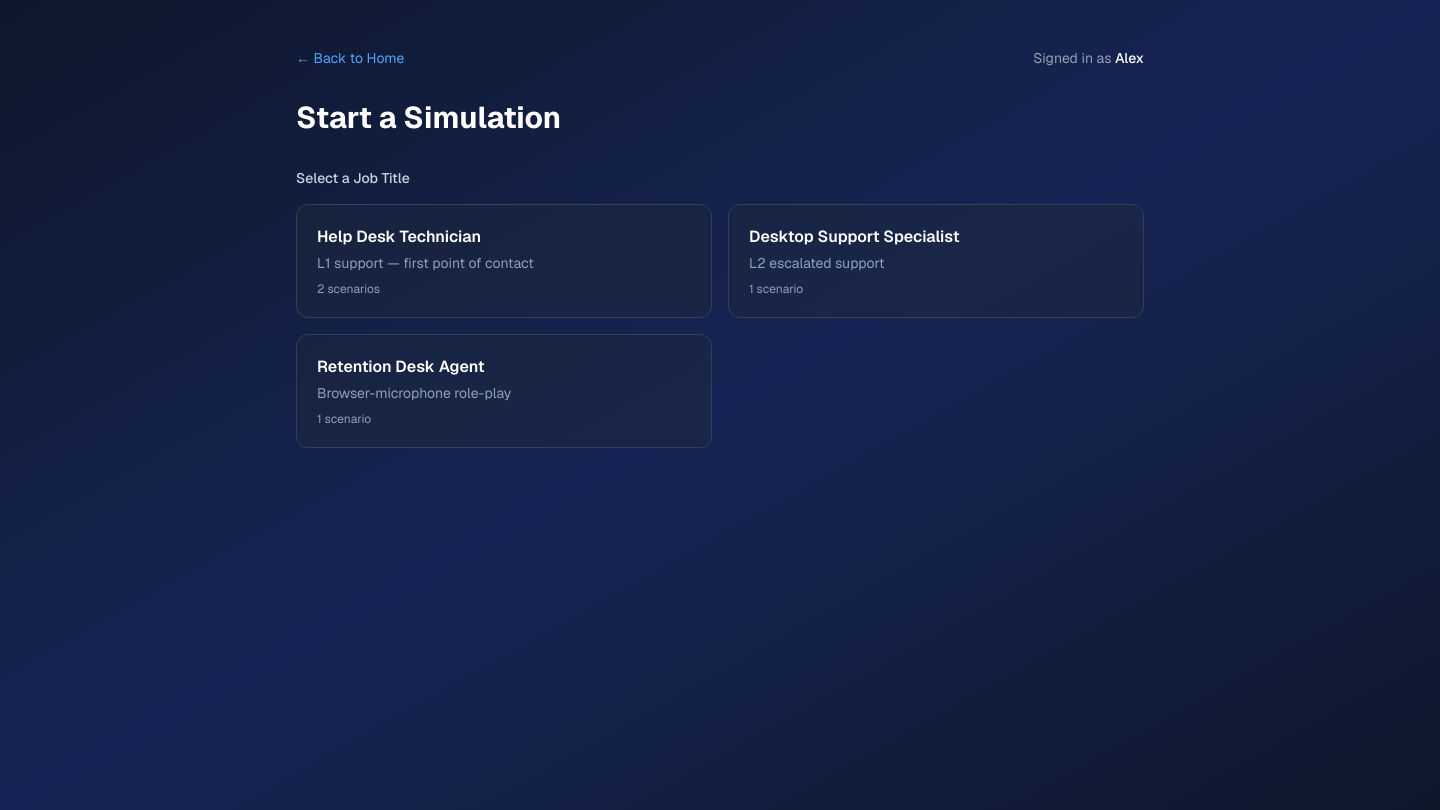
SimulatePage — job and scenario selection › a VOICE scenario card shows the microphone glyph, not the chat bubble
Step 1. Click the heading "Retention Desk Agent" → (401, 366), box [317, 356, 484, 377]
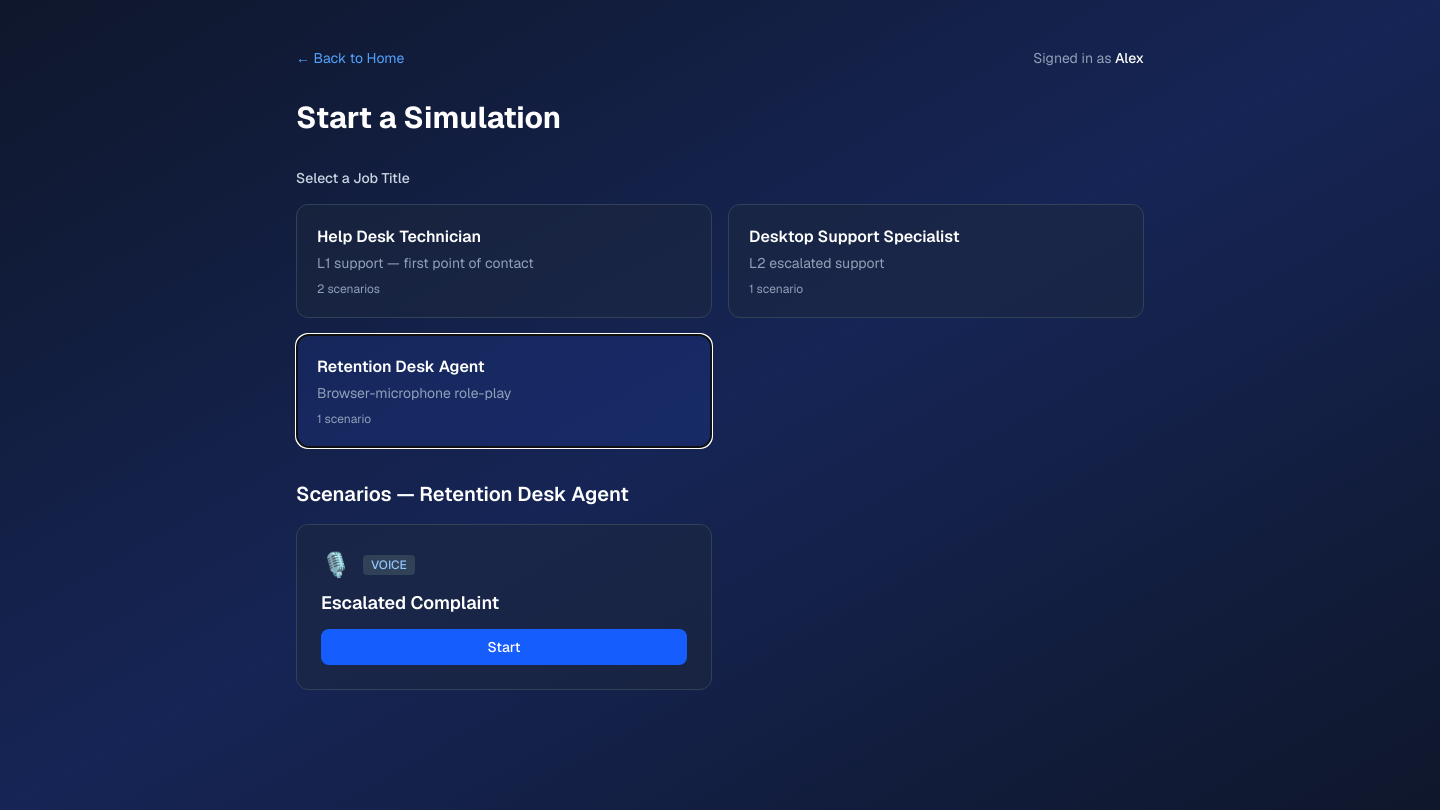
Expected: the text "VOICE" is shown, [363, 555, 415, 575]
Expected: the text "🎙️" is shown, [321, 549, 351, 581]
